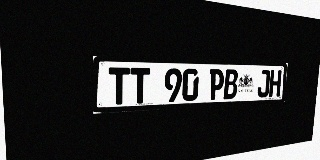0: (182, 68, 199, 101)
9: (164, 68, 182, 102)
B: (223, 69, 238, 99)
H: (269, 70, 282, 97)
J: (257, 70, 270, 97)
P: (208, 69, 224, 100)
T: (108, 67, 130, 105), (130, 68, 150, 104)
